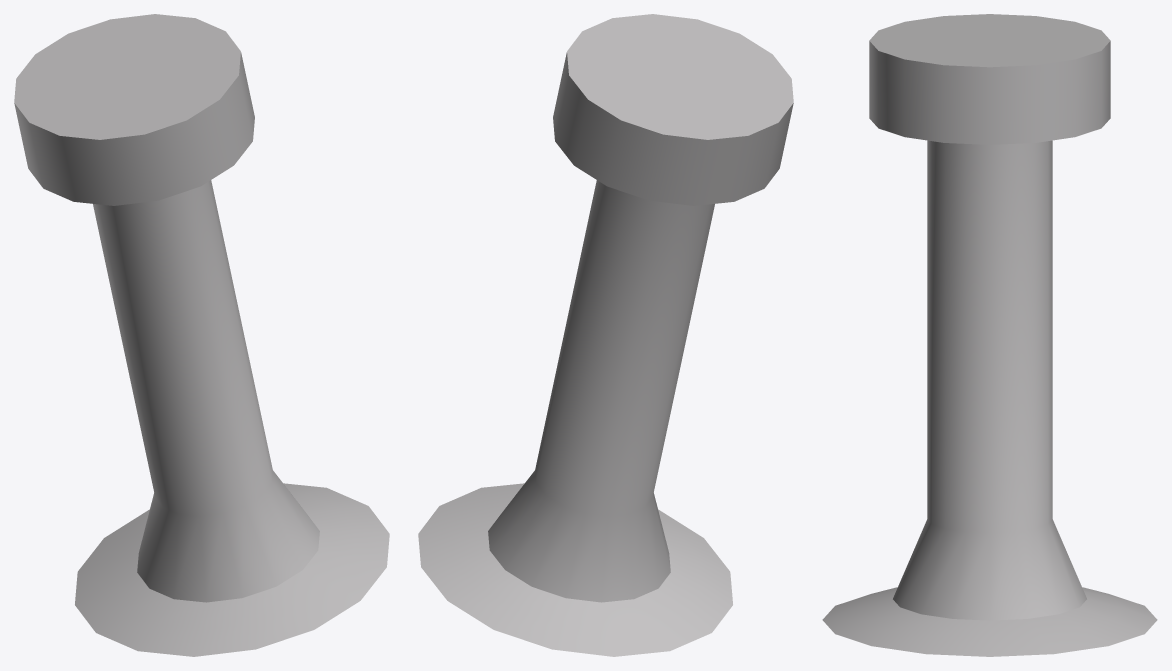
The model's file is RPump.fbx.
3 views of the same model, side by side, from view 1: azimuth 30°, elevation 25°; view 2: azimuth 150°, elevation 25°; view 3: azimuth 270°, elevation 25° (orthographic).
Parts seen in each view (by area): view 1: Cylinder.071; view 2: Cylinder.071; view 3: Cylinder.071.
Boxes of the visible parts, <box> form: Cylinder.071: <box>14,14,389,656</box>; Cylinder.071: <box>418,14,793,656</box>; Cylinder.071: <box>822,14,1157,656</box>.
Bounding box in the file's own units: 104 × 167 × 87.51.
Materials: 1 (1 with a texture image).
